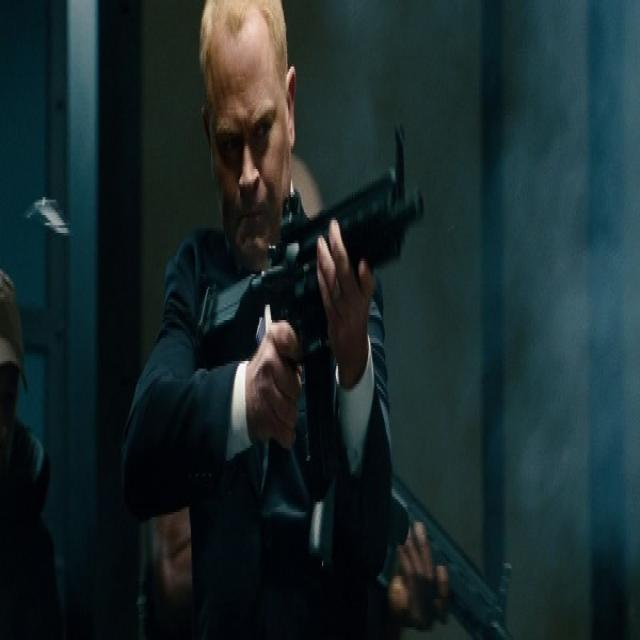rifle: (199, 125, 427, 523)
